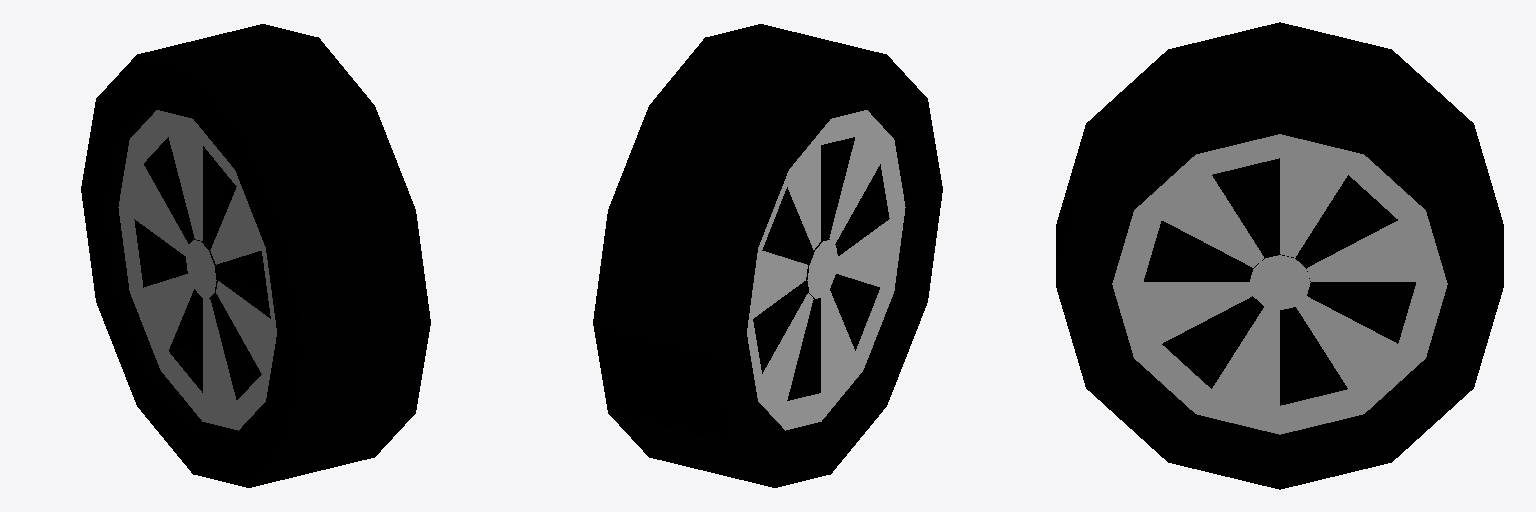
The model's file is Llanta2Carro_obj.obj.
3 renders of one model, left to right at view 1: azimuth 30°, elevation 25°; view 2: azimuth 150°, elevation 25°; view 3: azimuth 270°, elevation 25°, orthographic.
Visible parts, largest first — view 1: Llanta_2; view 2: Llanta_2; view 3: Llanta_2.
Part boxes in pixels (left/top/right/bottom): Llanta_2: left=81, top=24, right=430, bottom=487; Llanta_2: left=593, top=24, right=942, bottom=487; Llanta_2: left=1056, top=22, right=1503, bottom=489.
Bounding box in the file's own units: 5.12 × 15.75 × 15.75.